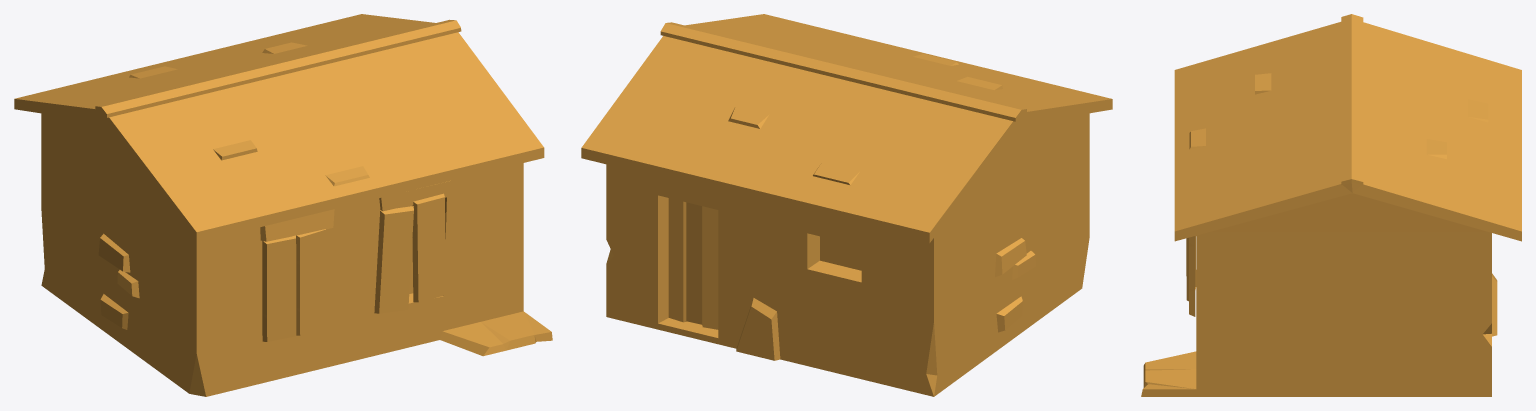
The model's file is house-pirate-new-small.fbx.
3 renders of one model, left to right at view 1: azimuth 30°, elevation 25°; view 2: azimuth 150°, elevation 25°; view 3: azimuth 270°, elevation 25°, orthographic. The views are drawn at different scales.
Parts seen in each view (by area): view 1: house-pirate-new-small; view 2: house-pirate-new-small; view 3: house-pirate-new-small.
Part boxes in pixels (x1,y1,x2,y2): house-pirate-new-small: [14, 14, 552, 396]; house-pirate-new-small: [581, 14, 1112, 396]; house-pirate-new-small: [1141, 14, 1521, 396].
Size of the model in its own units: 6.12 by 3.88 by 5.96.
